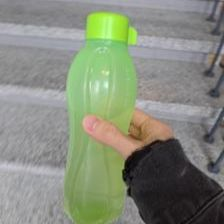bottle: (60, 9, 142, 223)
